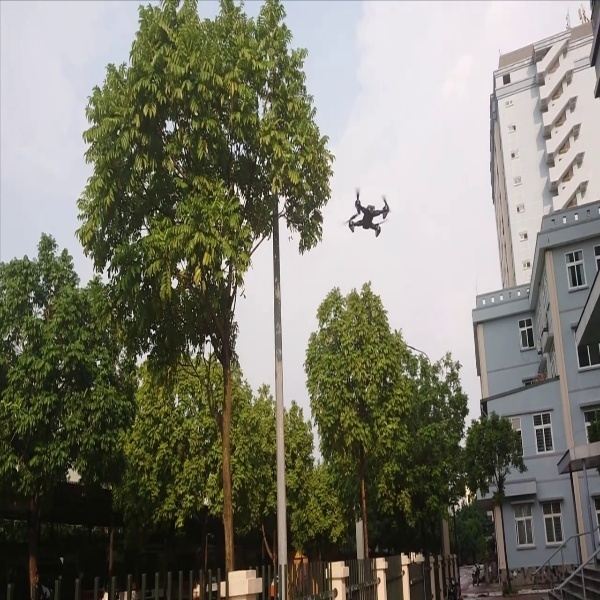drone: (340, 185, 394, 245)
